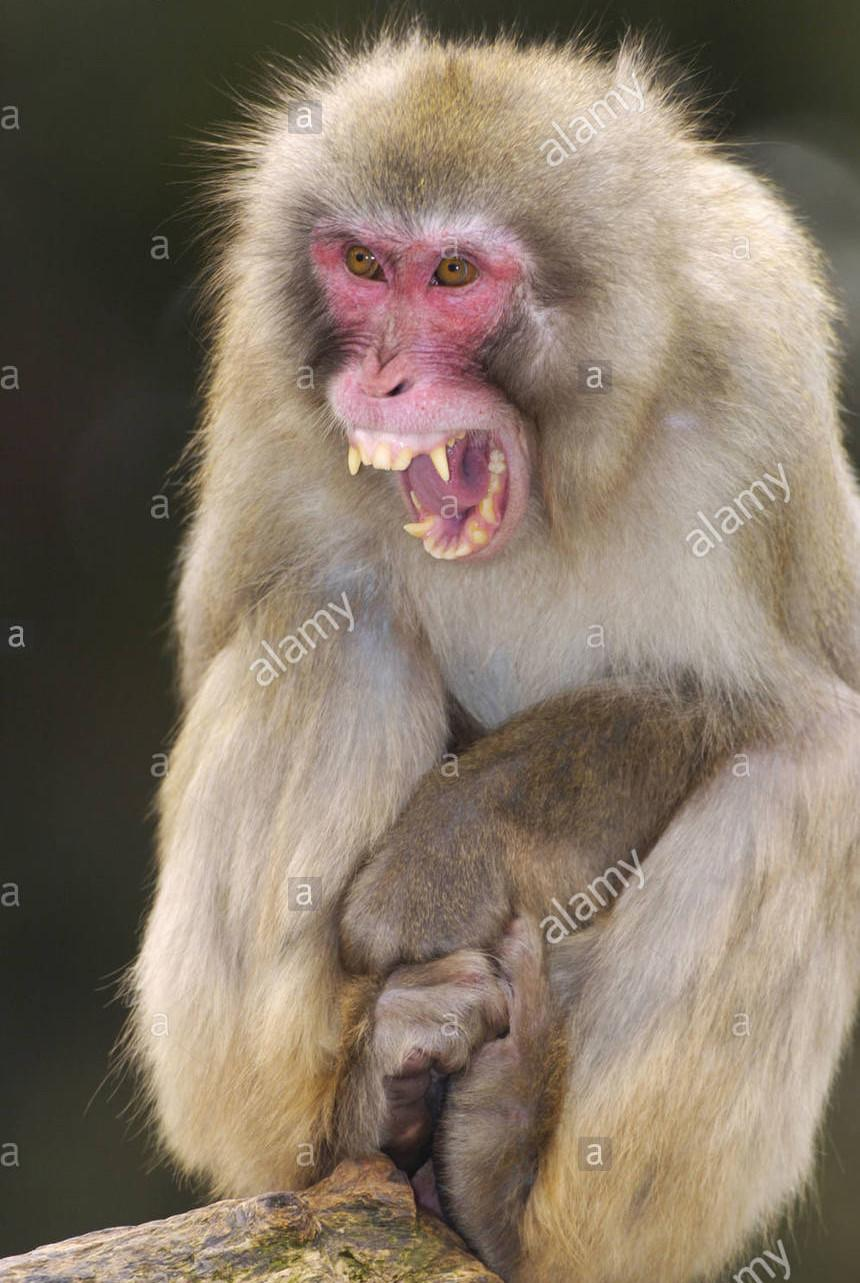monkey: (130, 49, 860, 1283)
